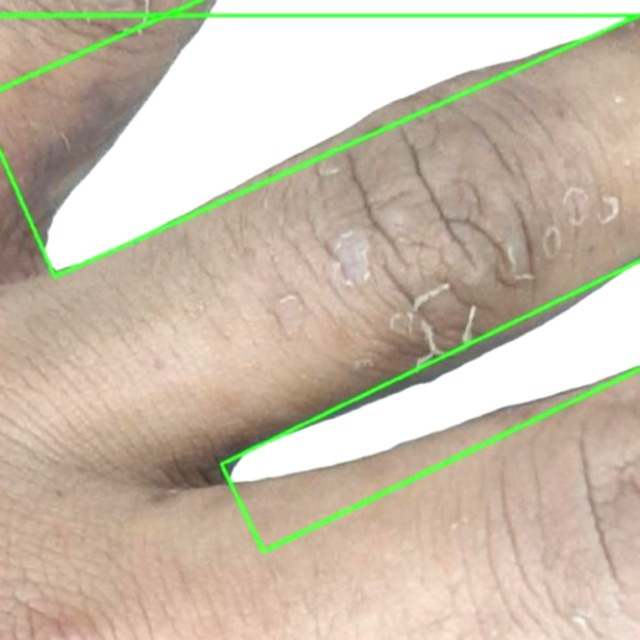Scabies: (0, 15, 639, 639), (0, 0, 639, 275), (221, 261, 639, 550)
